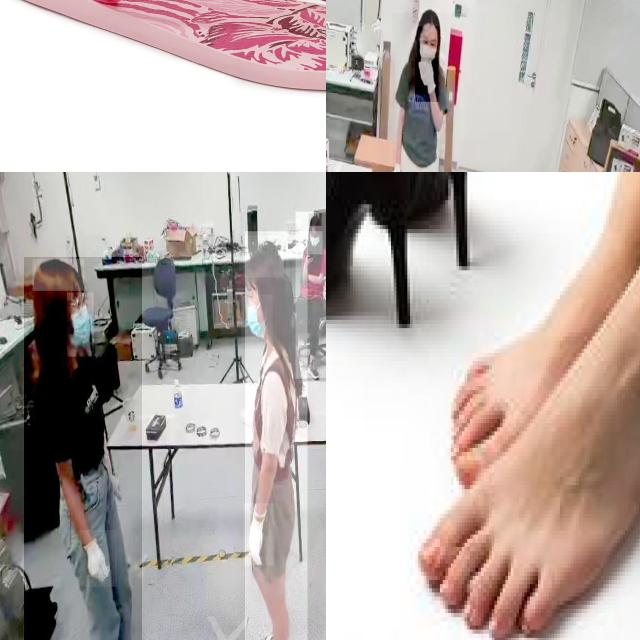Barefoots: (417, 375, 640, 640)
Sandals: (0, 0, 326, 93)
face_mask: (241, 294, 273, 347), (67, 293, 93, 357), (417, 40, 437, 62), (306, 232, 322, 254)
hand_glove: (80, 530, 118, 588), (243, 504, 274, 566), (415, 57, 439, 102), (390, 157, 404, 172)
hand_noglove: (304, 251, 314, 265)
head_nohelmet: (33, 258, 85, 292), (243, 236, 284, 278), (419, 9, 441, 27), (308, 213, 322, 227)
person: (23, 256, 142, 640), (245, 231, 308, 640), (392, 13, 455, 172), (295, 211, 326, 378)
shoes: (116, 631, 148, 640)
